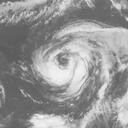cyclone: (32, 18, 92, 86)
